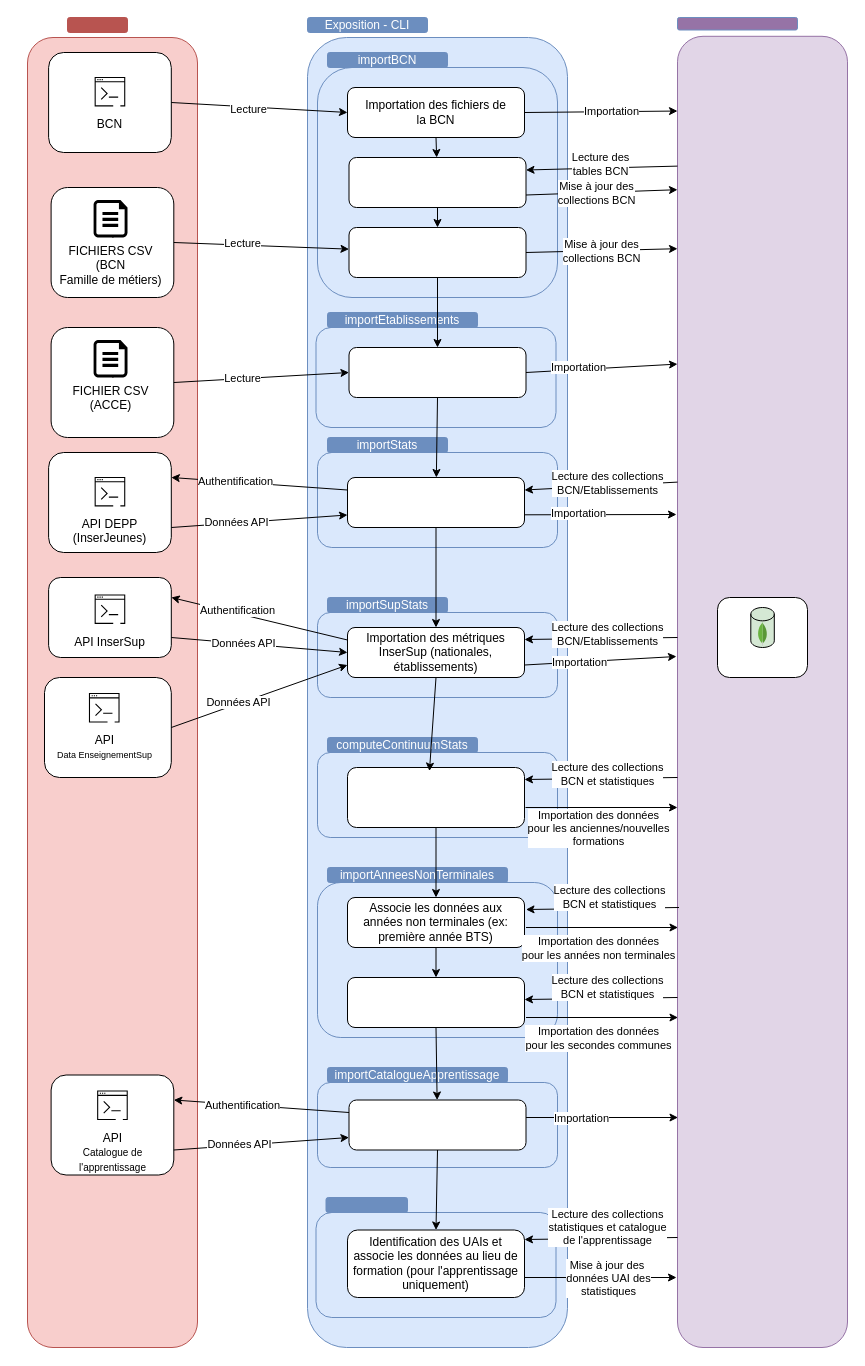
This 865x1366 diagram has some shape labels left out. The shapes that lost their labels are listed below. From the top down, each one's box as (x1, y1, x2, y2) in pixels, then its label:
(66, 16, 128, 32): Sources
(676, 16, 798, 30): Base de données
(348, 156, 526, 208): Création du continuum (au niveau BCN)
(348, 226, 526, 278): Importation des familles de métiers
(348, 346, 526, 398): Importation des établissements
(346, 476, 524, 528): Importation des métriques Inserjeunes (nationales, régionales, établissements)
(750, 606, 774, 648): MongoDB
(346, 766, 524, 828): Calcul du continuum des formations
(346, 976, 524, 1028): Associe les données aux secondes communes
(348, 1099, 526, 1150): Importation du catalogue de l'apprentissage
(325, 1196, 408, 1212): computeUAI
